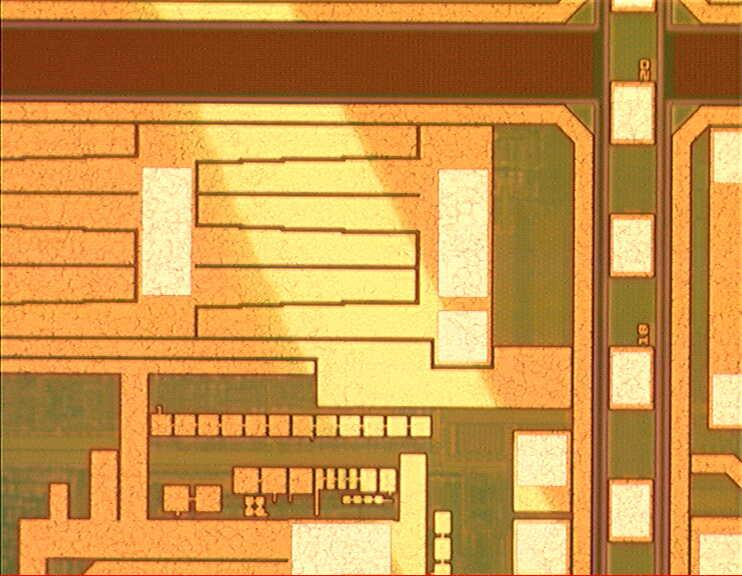COATING BAD: (121, 2, 603, 576)
